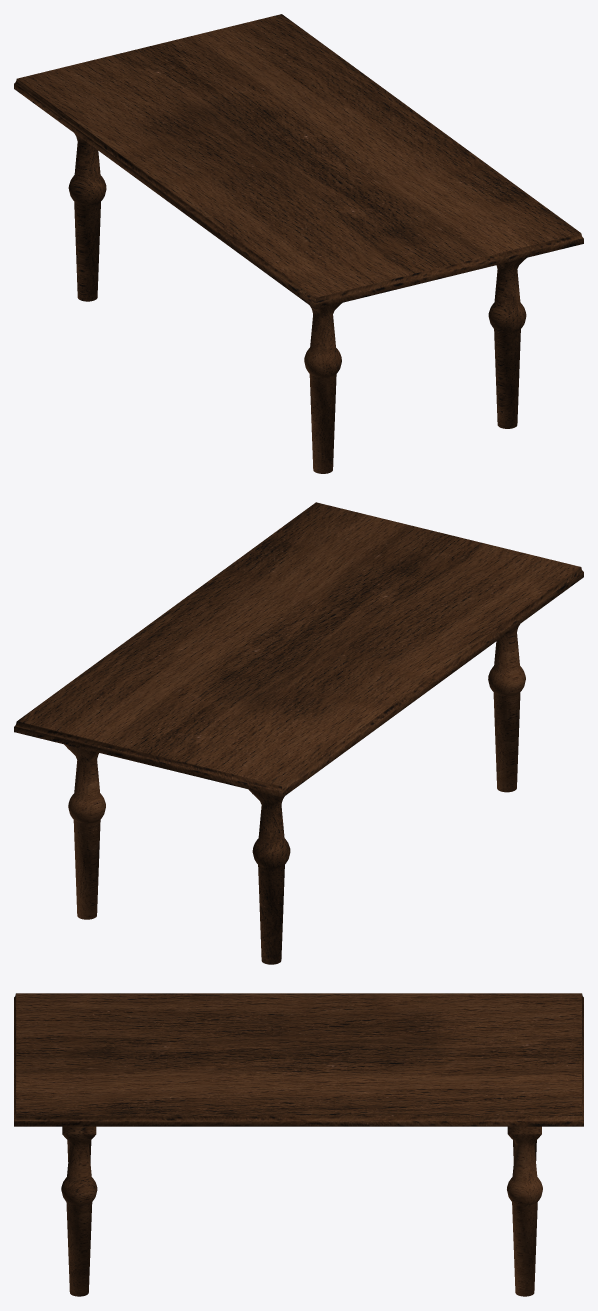
The model's file is dark_wood_dining_table.glb.
The picture shows the model from 3 angles, top to bottom: view 1: azimuth 30°, elevation 25°; view 2: azimuth 150°, elevation 25°; view 3: azimuth 270°, elevation 25°; orthographic projection. The views are drawn at different scales.
Visible parts, largest first — view 1: Cube.026, Cylinder.014; view 2: Cube.026, Cylinder.014; view 3: Cube.026, Cylinder.014.
Part boxes in pixels (left/top/right/bottom): Cube.026: left=14, top=14, right=583, bottom=309; Cylinder.014: left=68, top=133, right=526, bottom=473; Cube.026: left=14, top=502, right=583, bottom=797; Cylinder.014: left=64, top=624, right=525, bottom=964; Cube.026: left=14, top=993, right=583, bottom=1126; Cylinder.014: left=61, top=1126, right=542, bottom=1296.
Size of the model in its own units: 1.61 by 1.18 by 3.13.
Materials: 1 (1 with a texture image).
